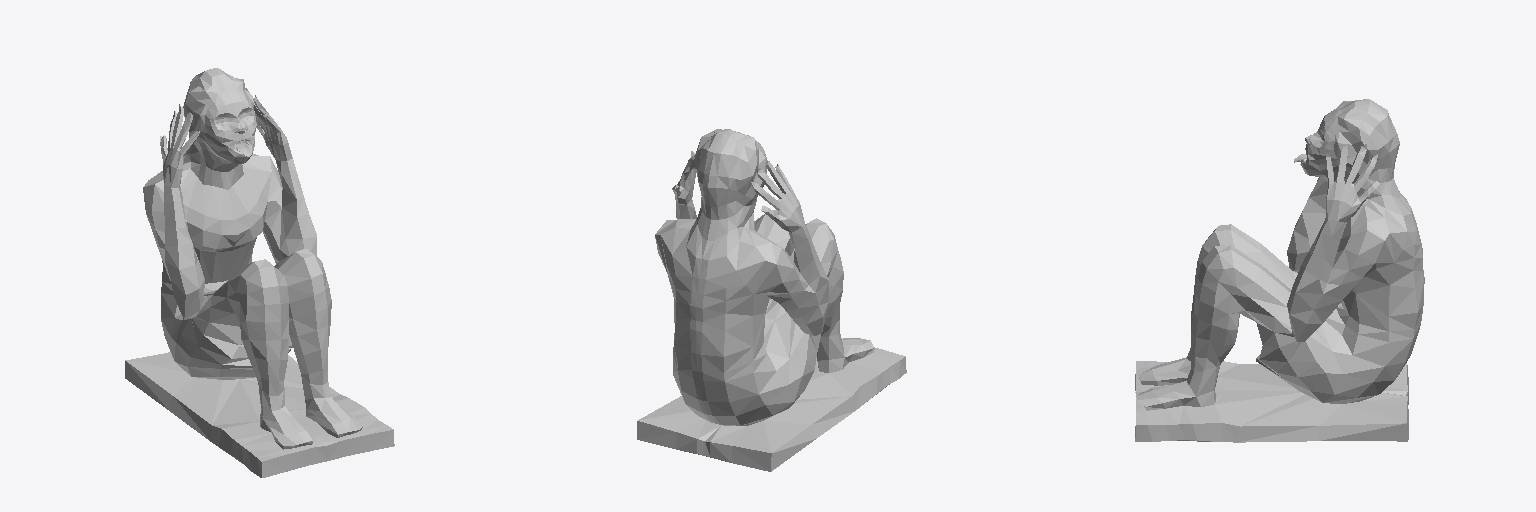
File: screaming_statue.obj
The picture shows the model from 3 angles: view 1: azimuth 30°, elevation 25°; view 2: azimuth 150°, elevation 25°; view 3: azimuth 270°, elevation 25°; orthographic projection.
Parts seen in each view (by area): view 1: Plane001_Mesh; view 2: Plane001_Mesh; view 3: Plane001_Mesh.
Boxes of the visible parts, x1,y1,x2,y2 form: Plane001_Mesh: [125, 68, 394, 477]; Plane001_Mesh: [637, 129, 906, 471]; Plane001_Mesh: [1135, 99, 1424, 442].
Size of the model in its own units: 1.08 by 2.22 by 1.89.